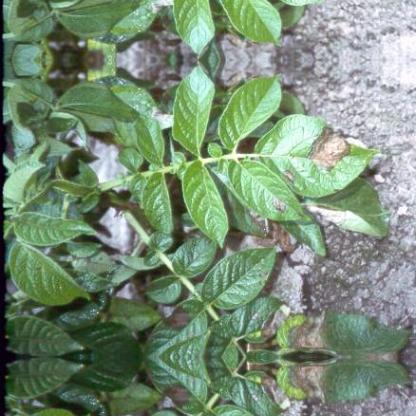Late-Blight: (213, 69, 395, 225), (229, 292, 407, 356), (229, 356, 407, 416), (213, 0, 395, 49)
